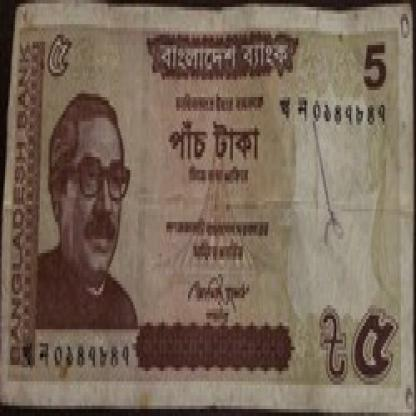Five Taka: (166, 111, 266, 166), (353, 294, 401, 398), (361, 24, 391, 104), (43, 21, 72, 90)
